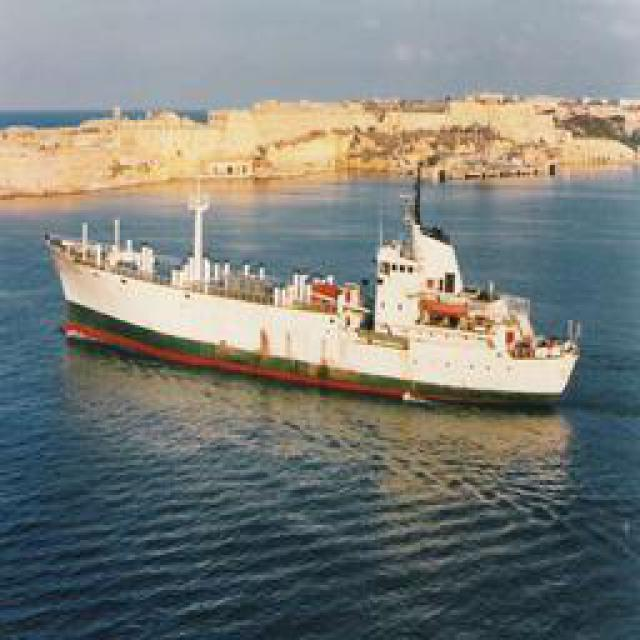Ship: (56, 184, 586, 414)
